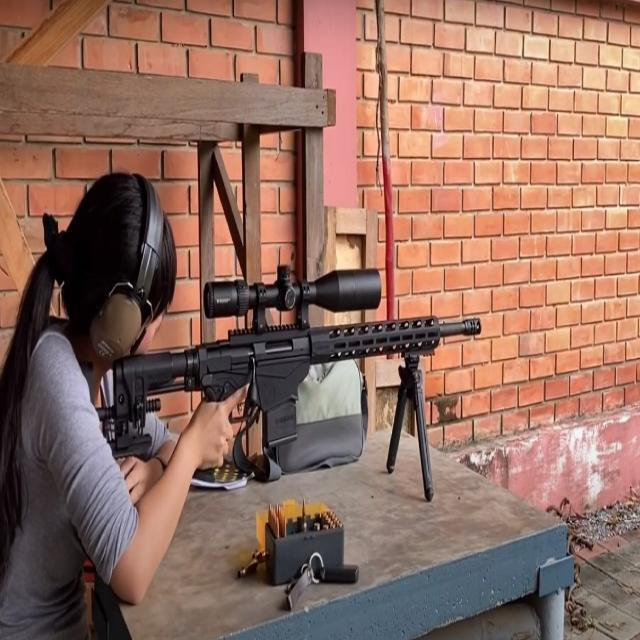rifle: (85, 255, 488, 504)
